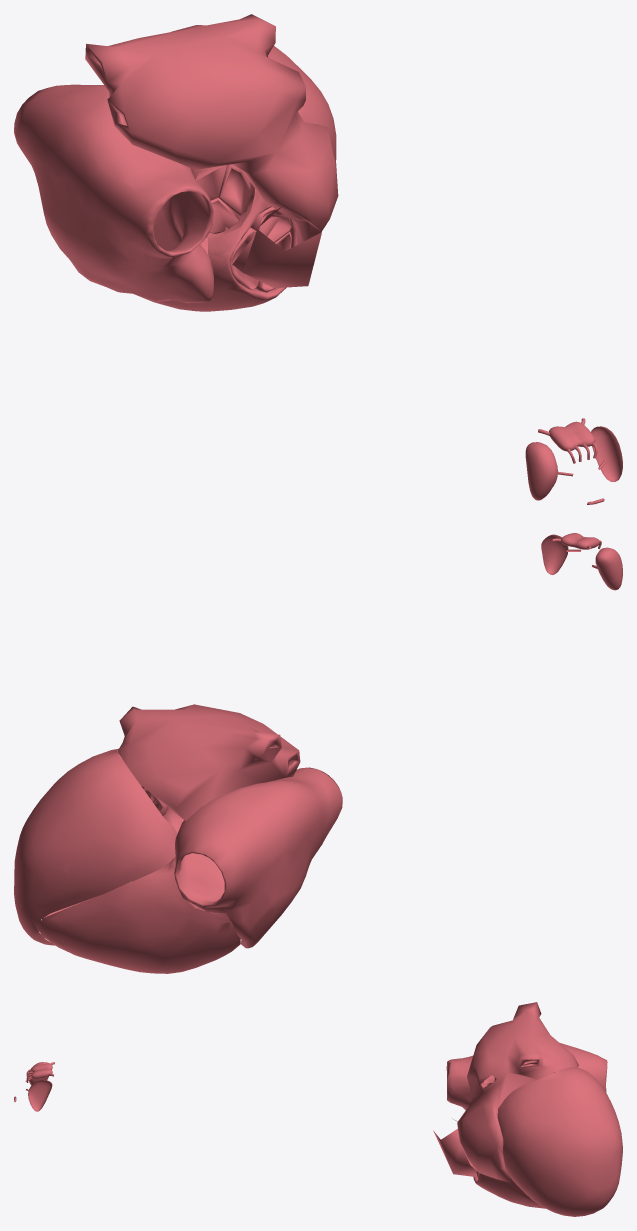
File: overview__vascular.71f23d4650.glb
3 views of the same model, one above another, from view 1: azimuth 30°, elevation 25°; view 2: azimuth 150°, elevation 25°; view 3: azimuth 270°, elevation 25° (orthographic). The views are drawn at different scales.
Parts seen in each view (by area): view 1: Z01138, Z01956, Z01865, Z01963, Z01145, Z00277, Z00221, Z00276, Z01140, Z01474, Z01958, Z01962; view 2: Z01956, Z01145, Z01138, Z01963, Z00277, Z00276; view 3: Z01145, Z01138, Z01956, Z01963, Z01865, Z00276, Z00221.
Part boxes in pixels (x1,y1,x2,y2): Z01138: [85, 14, 338, 244]; Z01956: [14, 84, 213, 303]; Z01865: [232, 206, 321, 288]; Z01963: [139, 190, 297, 311]; Z01145: [205, 46, 336, 238]; Z00277: [525, 442, 573, 500]; Z00221: [538, 418, 597, 463]; Z00276: [591, 426, 622, 481]; Z01140: [218, 164, 250, 216]; Z01474: [191, 165, 226, 200]; Z01958: [209, 198, 239, 233]; Z01962: [211, 226, 259, 289]; Z01956: [174, 767, 342, 948]; Z01145: [14, 748, 183, 945]; Z01138: [117, 704, 300, 820]; Z01963: [37, 857, 240, 973]; Z00277: [595, 547, 622, 590]; Z00276: [541, 534, 580, 574]; Z01145: [497, 1067, 622, 1216]; Z01138: [457, 1002, 578, 1183]; Z01956: [446, 1042, 607, 1110]; Z01963: [473, 1173, 545, 1208]; Z01865: [433, 1119, 476, 1176]; Z00276: [26, 1080, 52, 1111]; Z00221: [26, 1062, 54, 1082].
Bounding box in the file's own units: 115 × 110 × 362.
